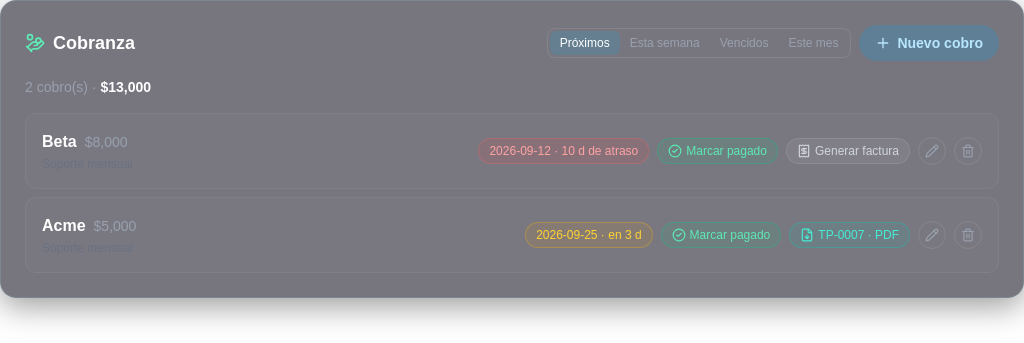
Test case: CobranzaSection › offers 'Generar factura' per cobro, and the folio + PDF once it exists
Click the button "Esta semana". click: (665, 43)
box: [620,31,710,55]
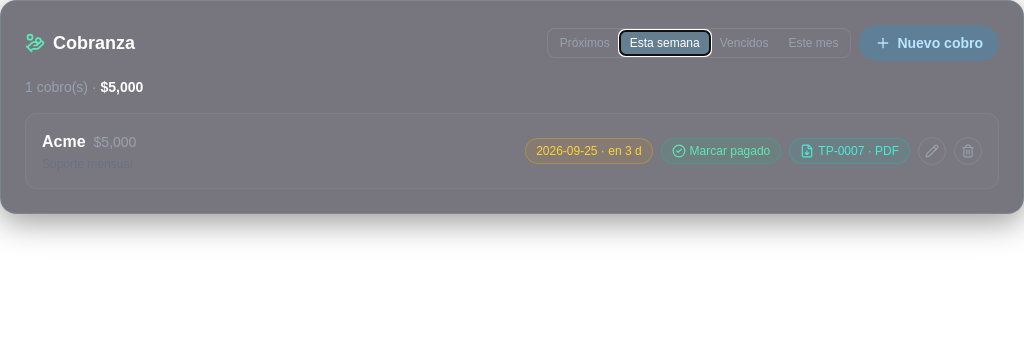
Expected: the button "TP-0007 · PDF" is shown, [789,138,910,164]
Click the button "Vencidos". click: (744, 43)
box: [710,31,778,55]
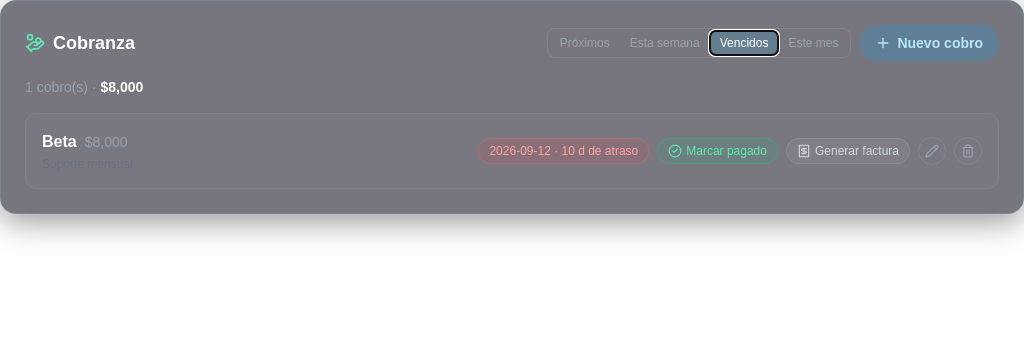
Now the button "Generar factura" is shown, box [786,138,910,164]
